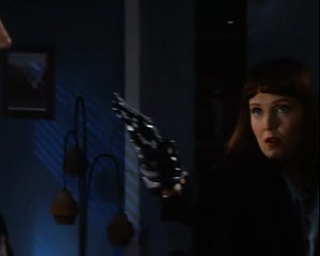face: (248, 94, 296, 157)
mcu: (1, 1, 320, 256)
person: (137, 56, 319, 256)
